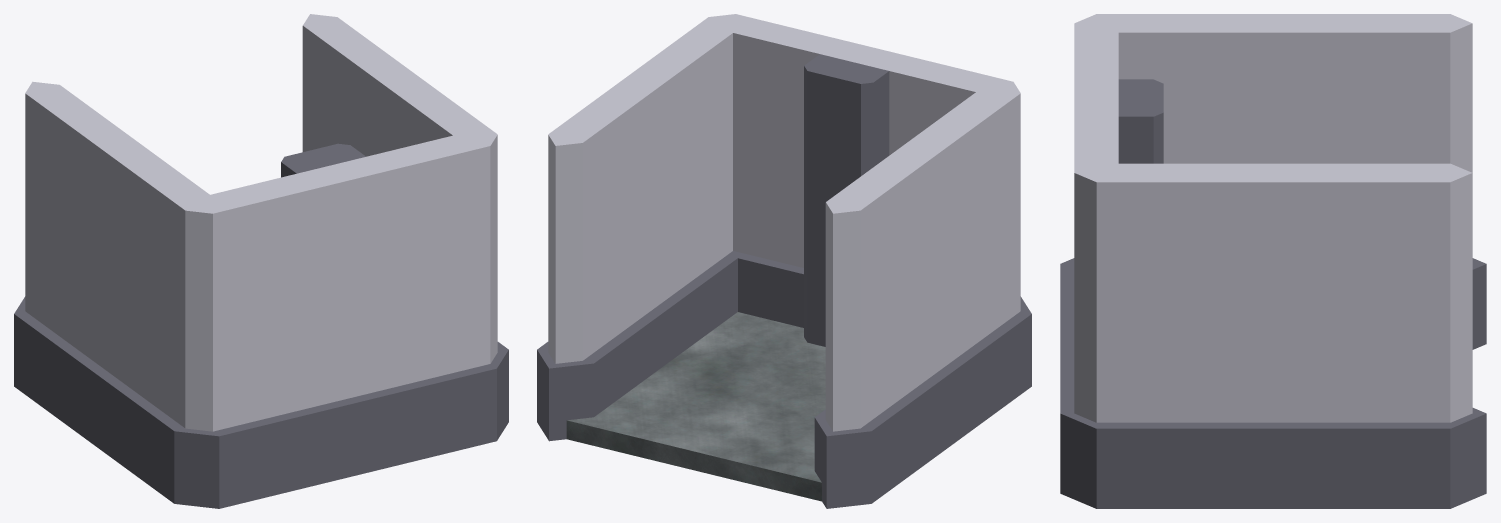
Rendered from sm_hallway_end_01.fbx.
3 views of the same model, side by side, from view 1: azimuth 30°, elevation 25°; view 2: azimuth 150°, elevation 25°; view 3: azimuth 270°, elevation 25° (orthographic). The views are drawn at different scales.
Parts seen in each view (by area): view 1: wall_02_179, wall_01_172, wall_01_176; view 2: wall_01_172, wall_01_176, wall_02_179, floor_square_169; view 3: wall_01_176, wall_01_172, wall_02_179.
Part boxes in pixels (x1,y1,x2,y2): wall_02_179: (174, 131, 508, 508); wall_01_172: (14, 81, 223, 508); wall_01_176: (302, 14, 508, 356); wall_01_172: (814, 81, 1031, 508); wall_01_176: (537, 14, 743, 441); wall_02_179: (709, 14, 1019, 346); floor_square_169: (566, 312, 825, 501); wall_01_176: (1060, 163, 1486, 508); wall_01_172: (1067, 14, 1486, 349); wall_02_179: (1060, 14, 1163, 508).
Size of the model in its own units: 12.05 by 10 by 12.05.
